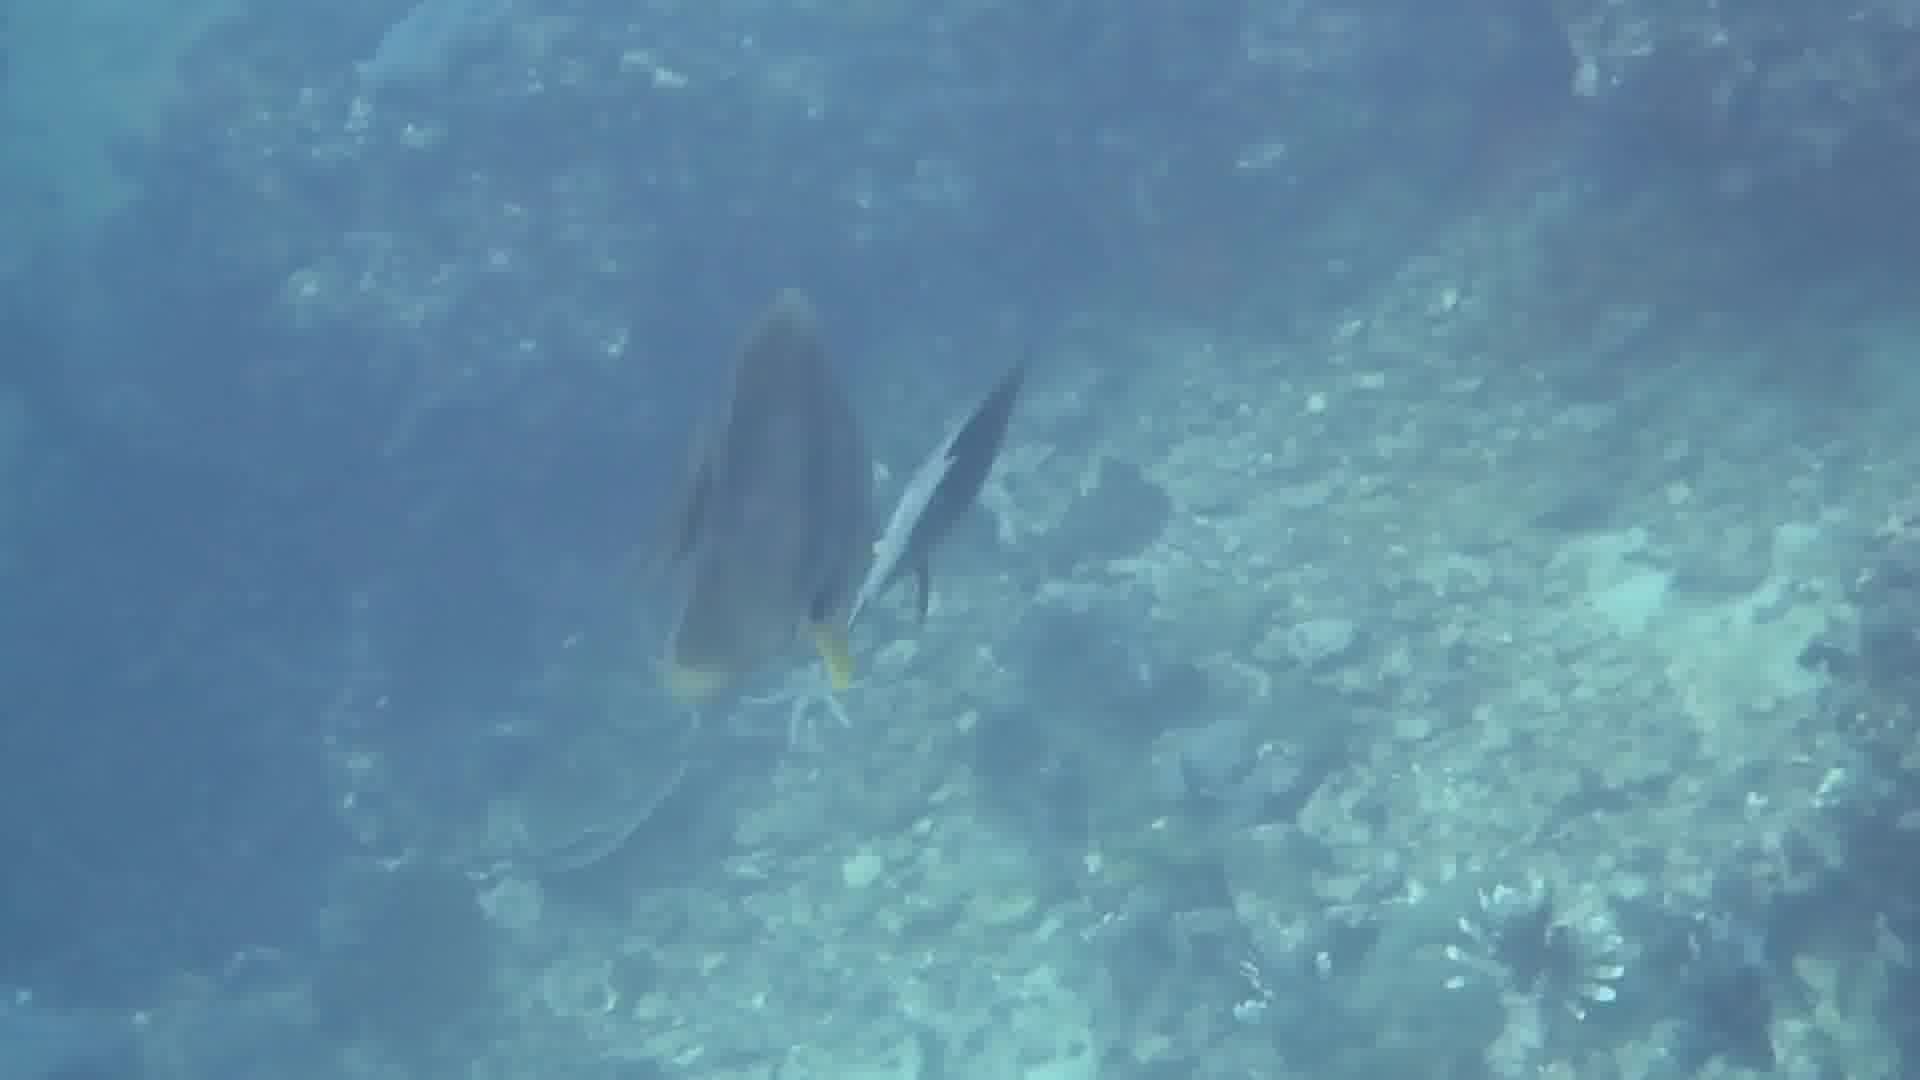Platax teira: (553, 208, 1000, 771)
